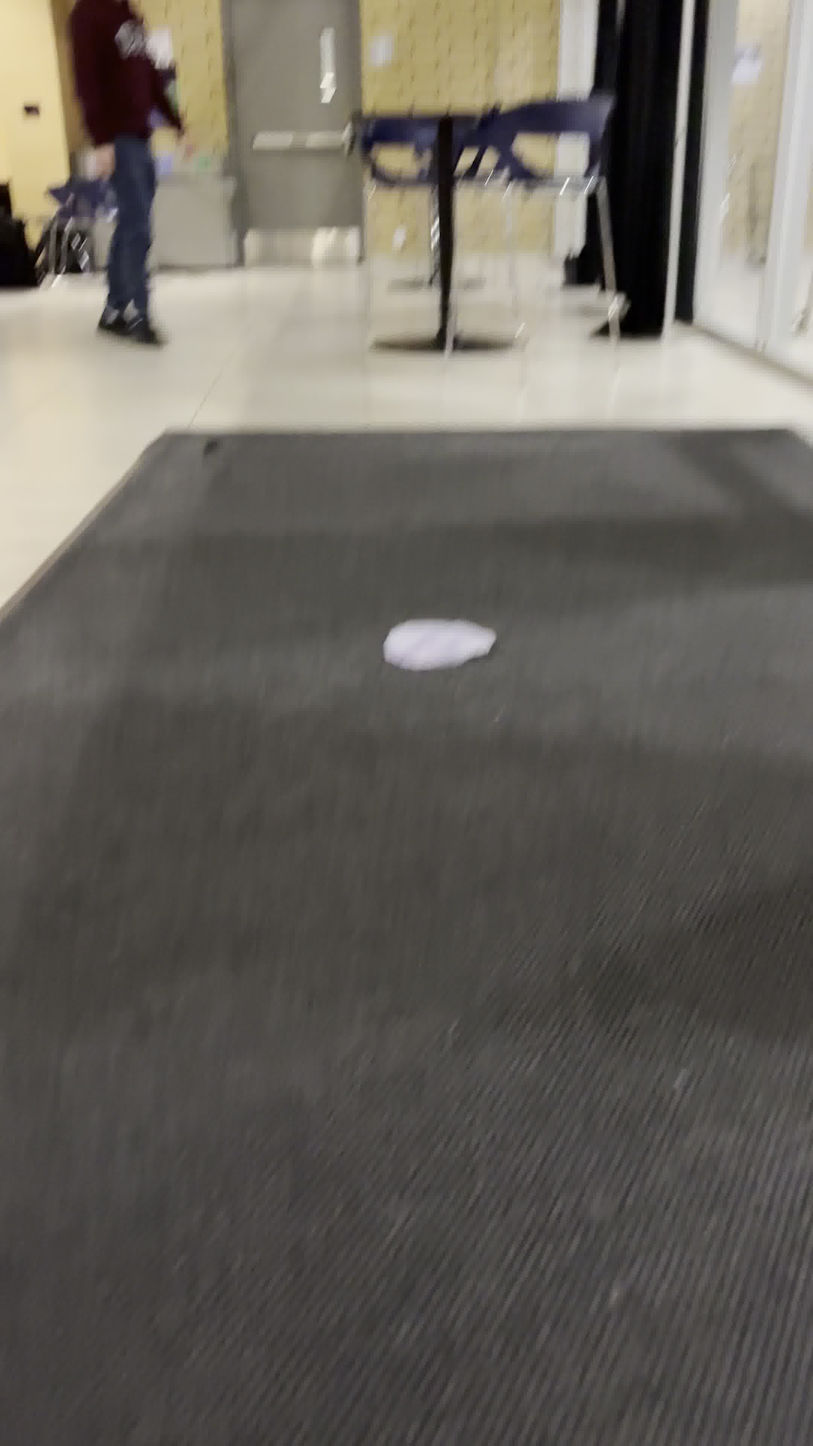Target: (378, 613, 501, 674)
